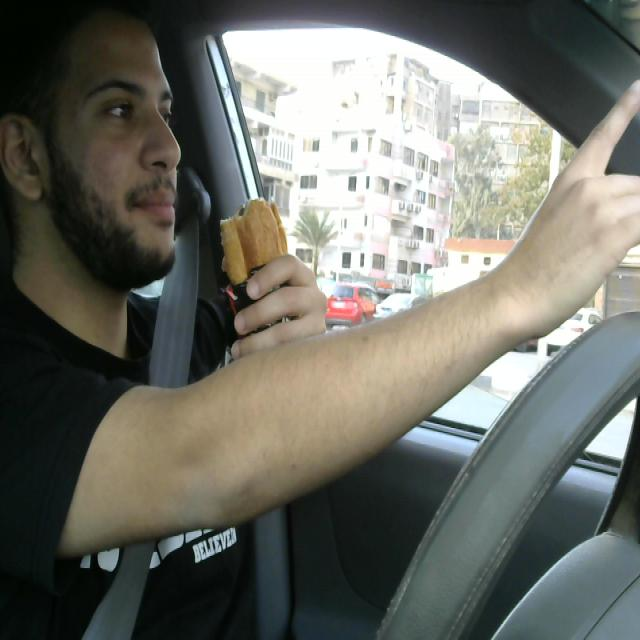eating: (211, 197, 293, 406)
